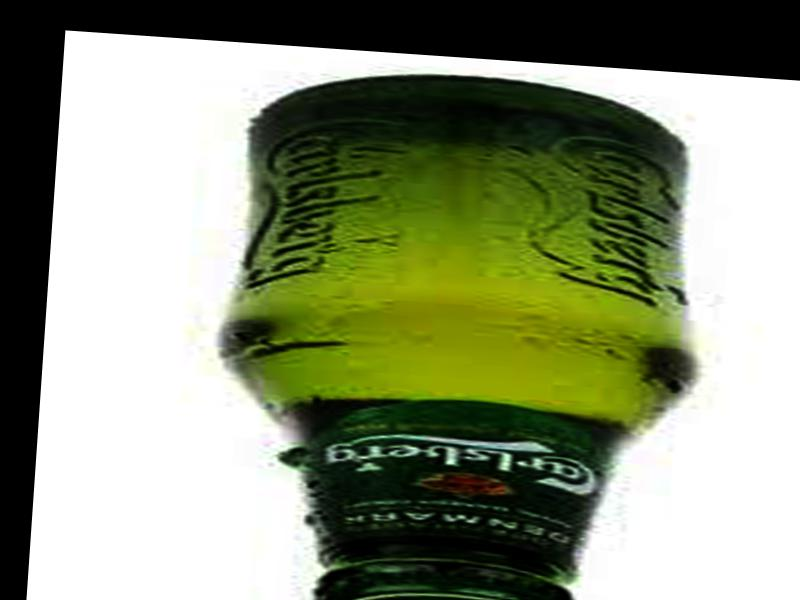Beer: (205, 58, 702, 600)
